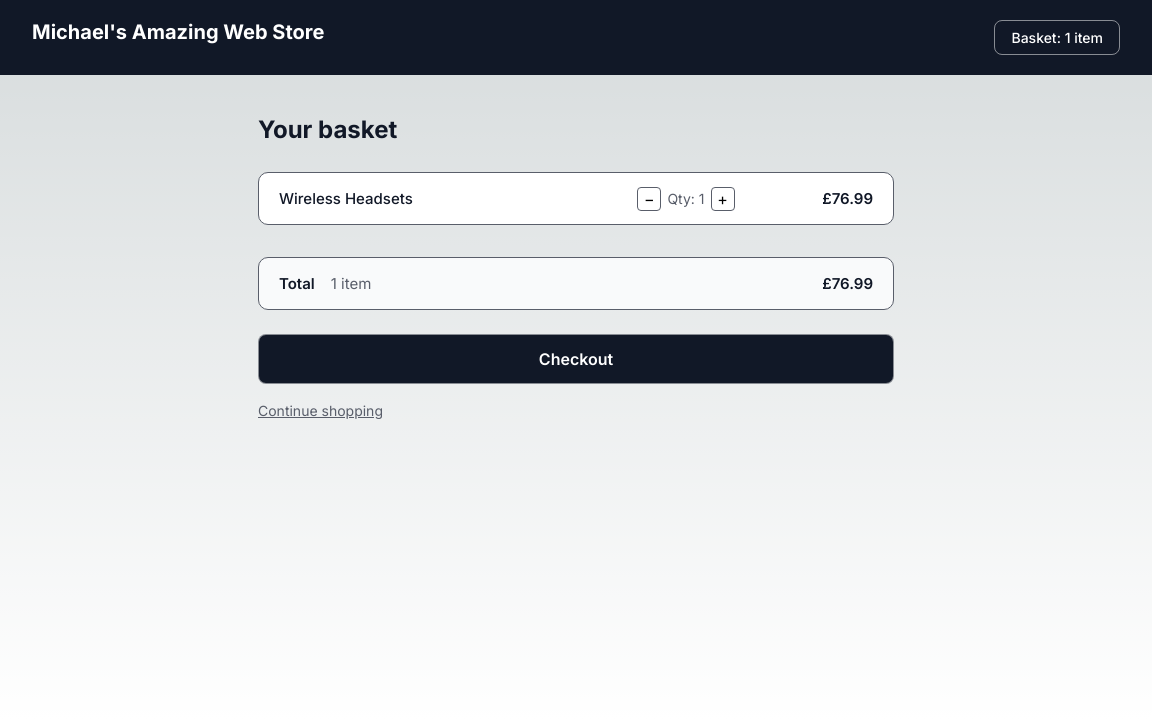
CheckoutPage — qty controls › removing the last item shows the empty state
Click the button named "- Remove one Wireless Headsets from basket" at {"x": 649, "y": 198}, box 637,186 -> 661,210
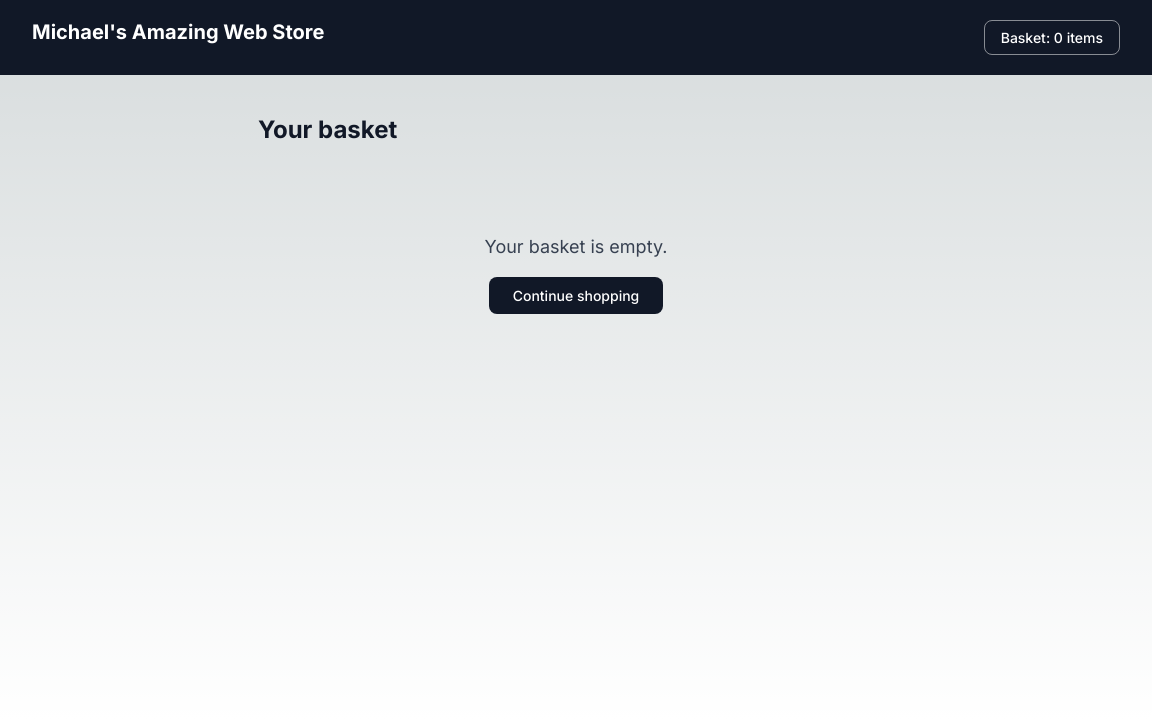
Check: the text "Your basket is empty." is shown, box 485,236 -> 667,257
